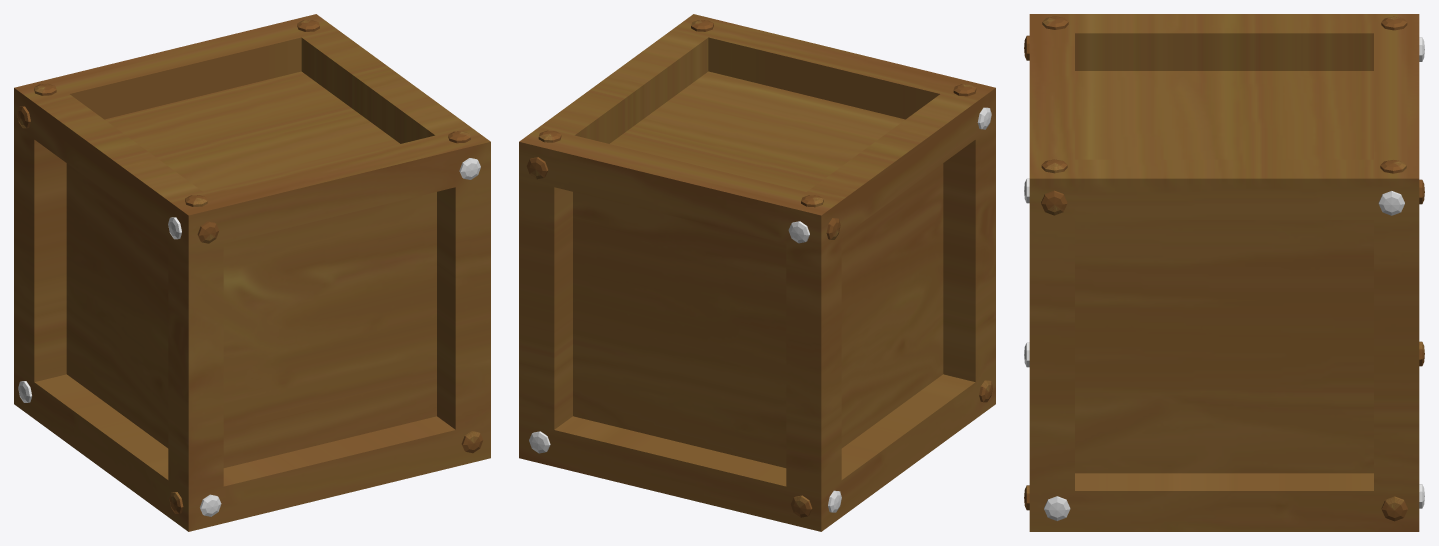
File: tahta_kutu.fbx
3 renders of one model, left to right at view 1: azimuth 30°, elevation 25°; view 2: azimuth 150°, elevation 25°; view 3: azimuth 270°, elevation 25°, orthographic. The views are drawn at different scales.
Visible parts, largest first — view 1: kutu 2; view 2: kutu 2; view 3: kutu 2.
Part boxes in pixels (x1,y1,x2,y2): kutu 2: (14,14,490,531); kutu 2: (519,14,995,531); kutu 2: (1024,14,1424,531).
Size of the model in its own units: 1.48 by 1.48 by 1.48.
2 materials, 1 textured.
